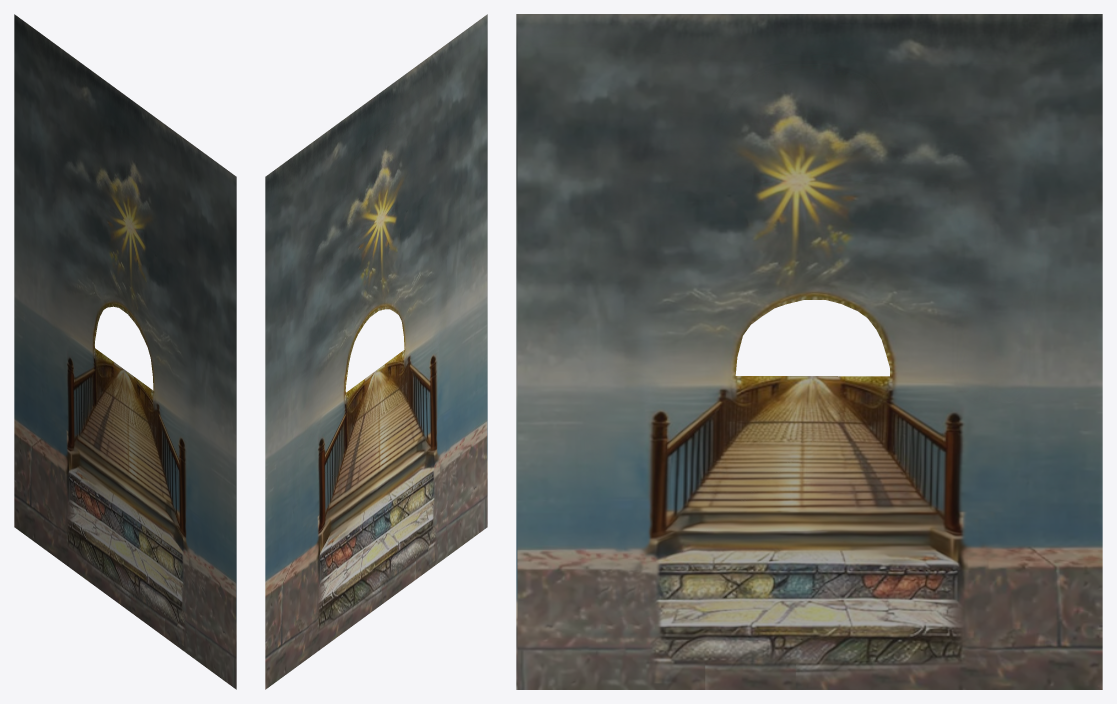
Rendered from bkg.fbx.
3 views of the same model, side by side, from view 1: azimuth 30°, elevation 25°; view 2: azimuth 150°, elevation 25°; view 3: azimuth 270°, elevation 25° (orthographic). The views are drawn at different scales.
Parts seen in each view (by area): view 1: bkg; view 2: bkg; view 3: bkg.
Boxes of the visible parts, <box> form: bkg: <box>14,14,236,689</box>; bkg: <box>265,14,487,689</box>; bkg: <box>516,14,1102,689</box>.
Bounding box in the file's own units: 78.62 × 100 × 1.62e-05.
